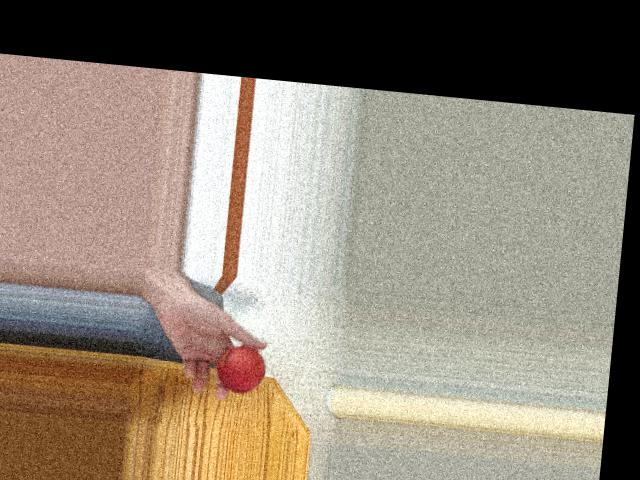apple: (215, 336, 271, 395)
